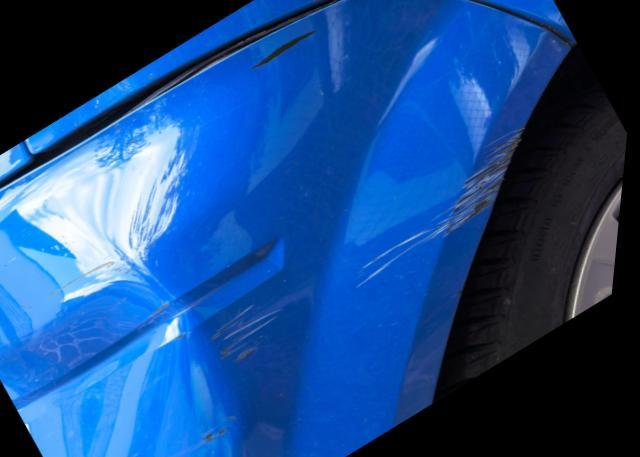dent: (0, 280, 229, 457)
scratch: (357, 121, 531, 292), (217, 298, 290, 364), (52, 257, 140, 298), (250, 26, 323, 73)
